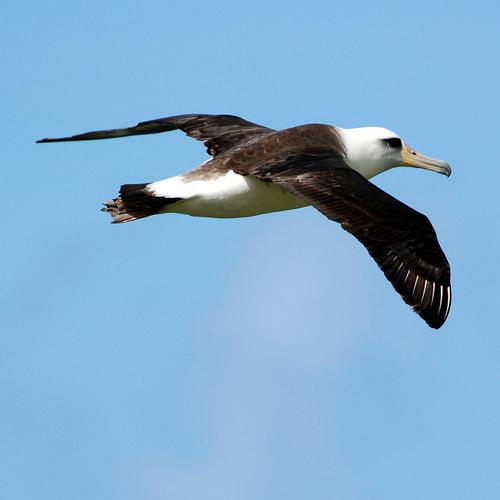002.Laysan_Albatross: (37, 108, 459, 332)
